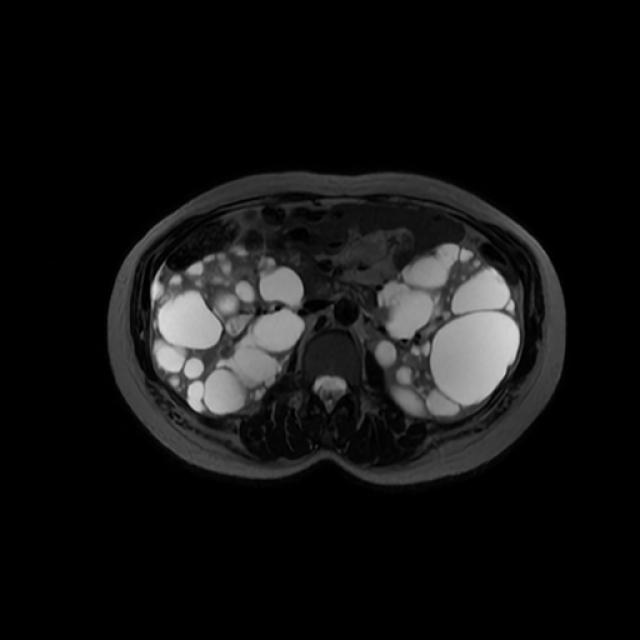sag: (151, 252, 306, 413)
sol: (377, 243, 519, 416)
